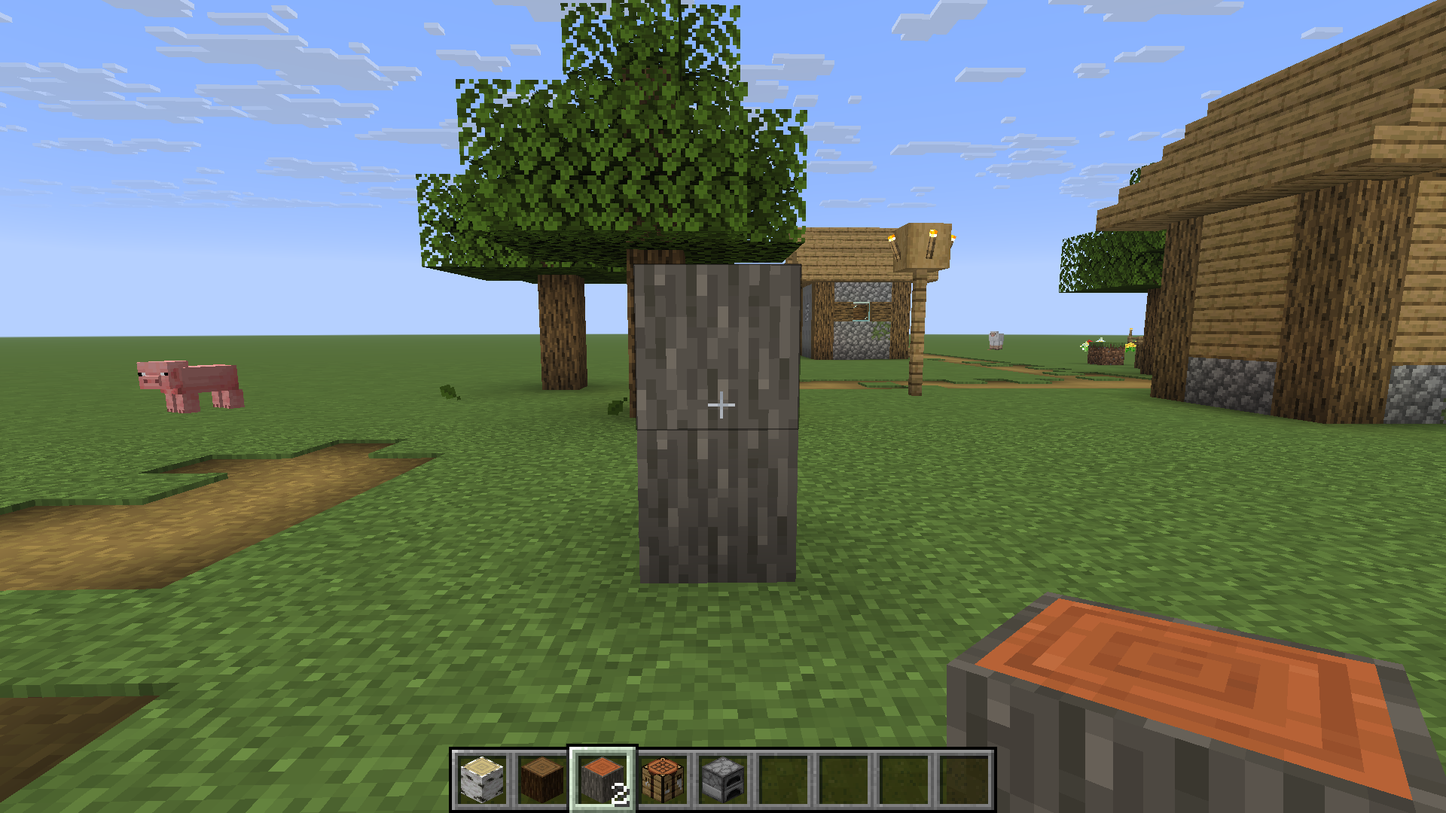Torch: (884, 229, 911, 272), (920, 229, 942, 261)
Tree: (420, 71, 618, 405)
wood: (1277, 183, 1412, 416)
wood 2: (945, 595, 1429, 812), (634, 265, 801, 584)
